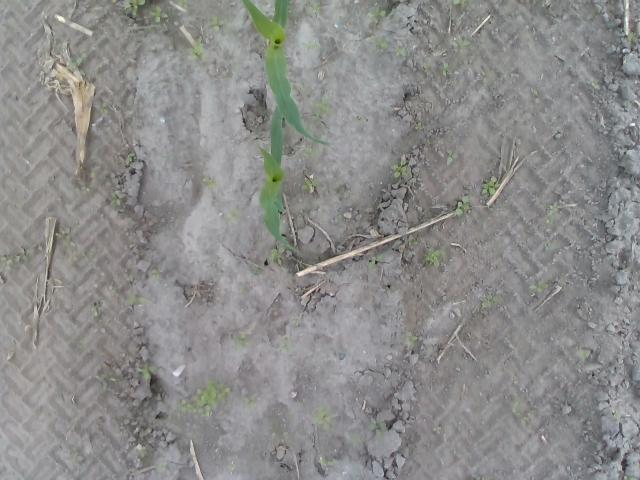Maize: (242, 0, 332, 147), (262, 103, 296, 253)
Weeds: (178, 378, 232, 418), (61, 226, 80, 264), (311, 404, 334, 432), (479, 176, 501, 196), (310, 95, 333, 114), (70, 46, 88, 70), (390, 156, 410, 177), (512, 398, 528, 424), (450, 31, 472, 49), (123, 0, 146, 17), (422, 248, 442, 266), (454, 194, 470, 216), (546, 200, 560, 224), (2, 255, 30, 266), (367, 252, 385, 269), (367, 417, 386, 433), (480, 288, 496, 307), (192, 33, 204, 58), (138, 363, 156, 379), (528, 280, 548, 294), (108, 192, 126, 207), (348, 430, 362, 449), (302, 177, 320, 191), (148, 5, 162, 23), (232, 335, 246, 352), (210, 15, 223, 33), (90, 304, 104, 320), (242, 393, 256, 409), (270, 248, 283, 265), (374, 36, 389, 50), (279, 334, 290, 353), (628, 30, 638, 50), (310, 0, 322, 16), (304, 146, 320, 158), (392, 46, 409, 57), (320, 454, 338, 464), (125, 152, 136, 168), (407, 330, 418, 346), (227, 209, 239, 223), (128, 295, 144, 305), (106, 376, 126, 384), (96, 101, 108, 113), (302, 40, 320, 48), (476, 71, 488, 83), (367, 10, 385, 18), (80, 182, 94, 192), (159, 153, 177, 160), (439, 62, 448, 76), (207, 178, 217, 190), (409, 240, 424, 248), (154, 463, 167, 472), (78, 336, 86, 350), (578, 349, 588, 360), (446, 0, 464, 6), (150, 268, 160, 278), (432, 424, 442, 434), (623, 474, 639, 480), (177, 0, 189, 8), (591, 79, 600, 89), (423, 62, 432, 72), (414, 121, 424, 130), (544, 241, 552, 251), (446, 155, 453, 165)
